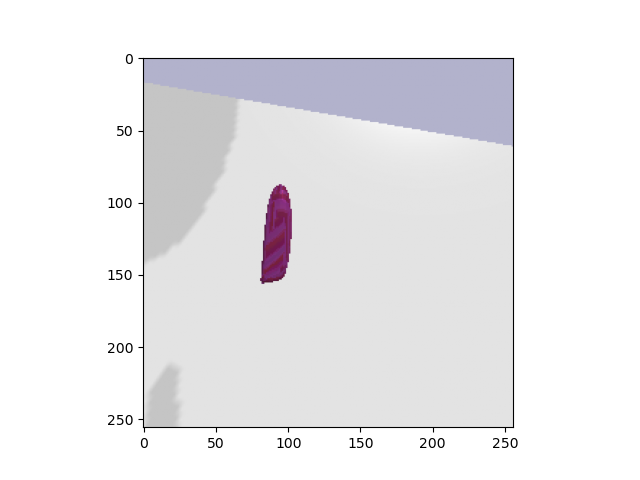v249b387_105: (253, 179, 302, 286)
